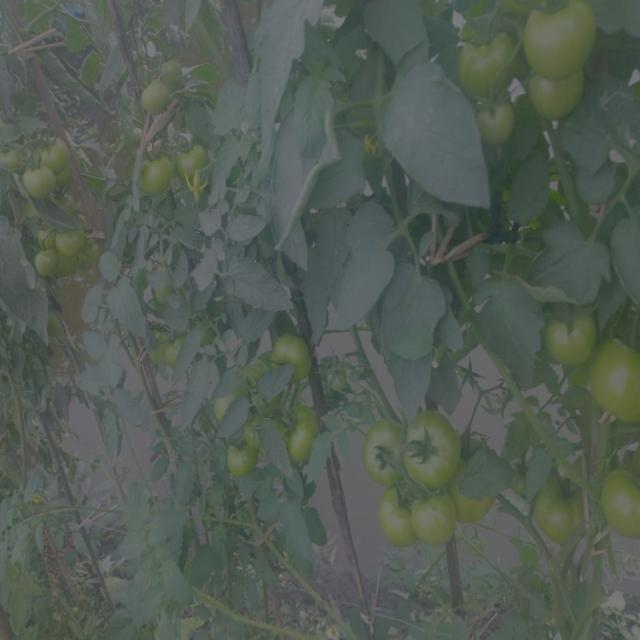tomato: (525, 7, 594, 73), (376, 492, 456, 545), (410, 417, 461, 492), (209, 368, 265, 436), (598, 334, 640, 422), (462, 39, 522, 95), (540, 476, 593, 536), (267, 327, 323, 383), (278, 411, 326, 473), (602, 462, 640, 539), (372, 415, 407, 489), (549, 311, 590, 363), (531, 81, 589, 113), (477, 100, 518, 145), (463, 462, 493, 515), (140, 157, 173, 200), (64, 229, 97, 270), (178, 145, 210, 184), (143, 78, 174, 116), (151, 329, 184, 364), (33, 247, 61, 285), (228, 446, 262, 476), (506, 460, 537, 492), (1, 145, 33, 175), (42, 139, 71, 168), (23, 172, 57, 196), (194, 318, 217, 346), (164, 54, 186, 76), (41, 222, 56, 239)
